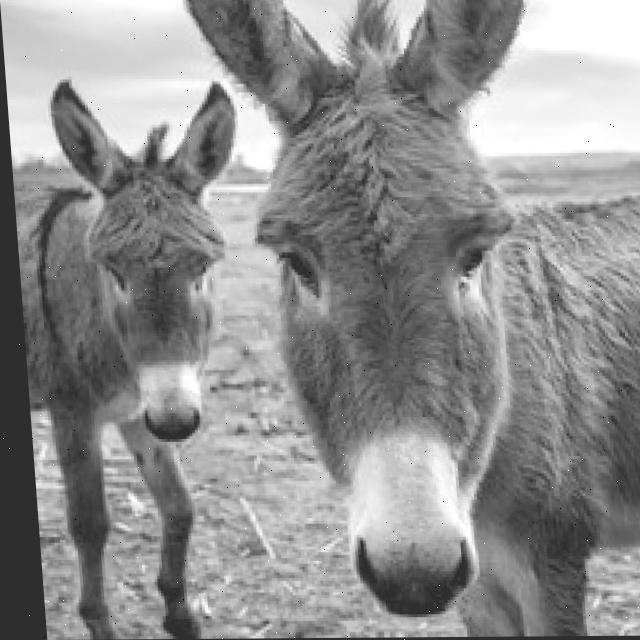Donkey: (180, 0, 640, 636), (6, 75, 273, 637)
